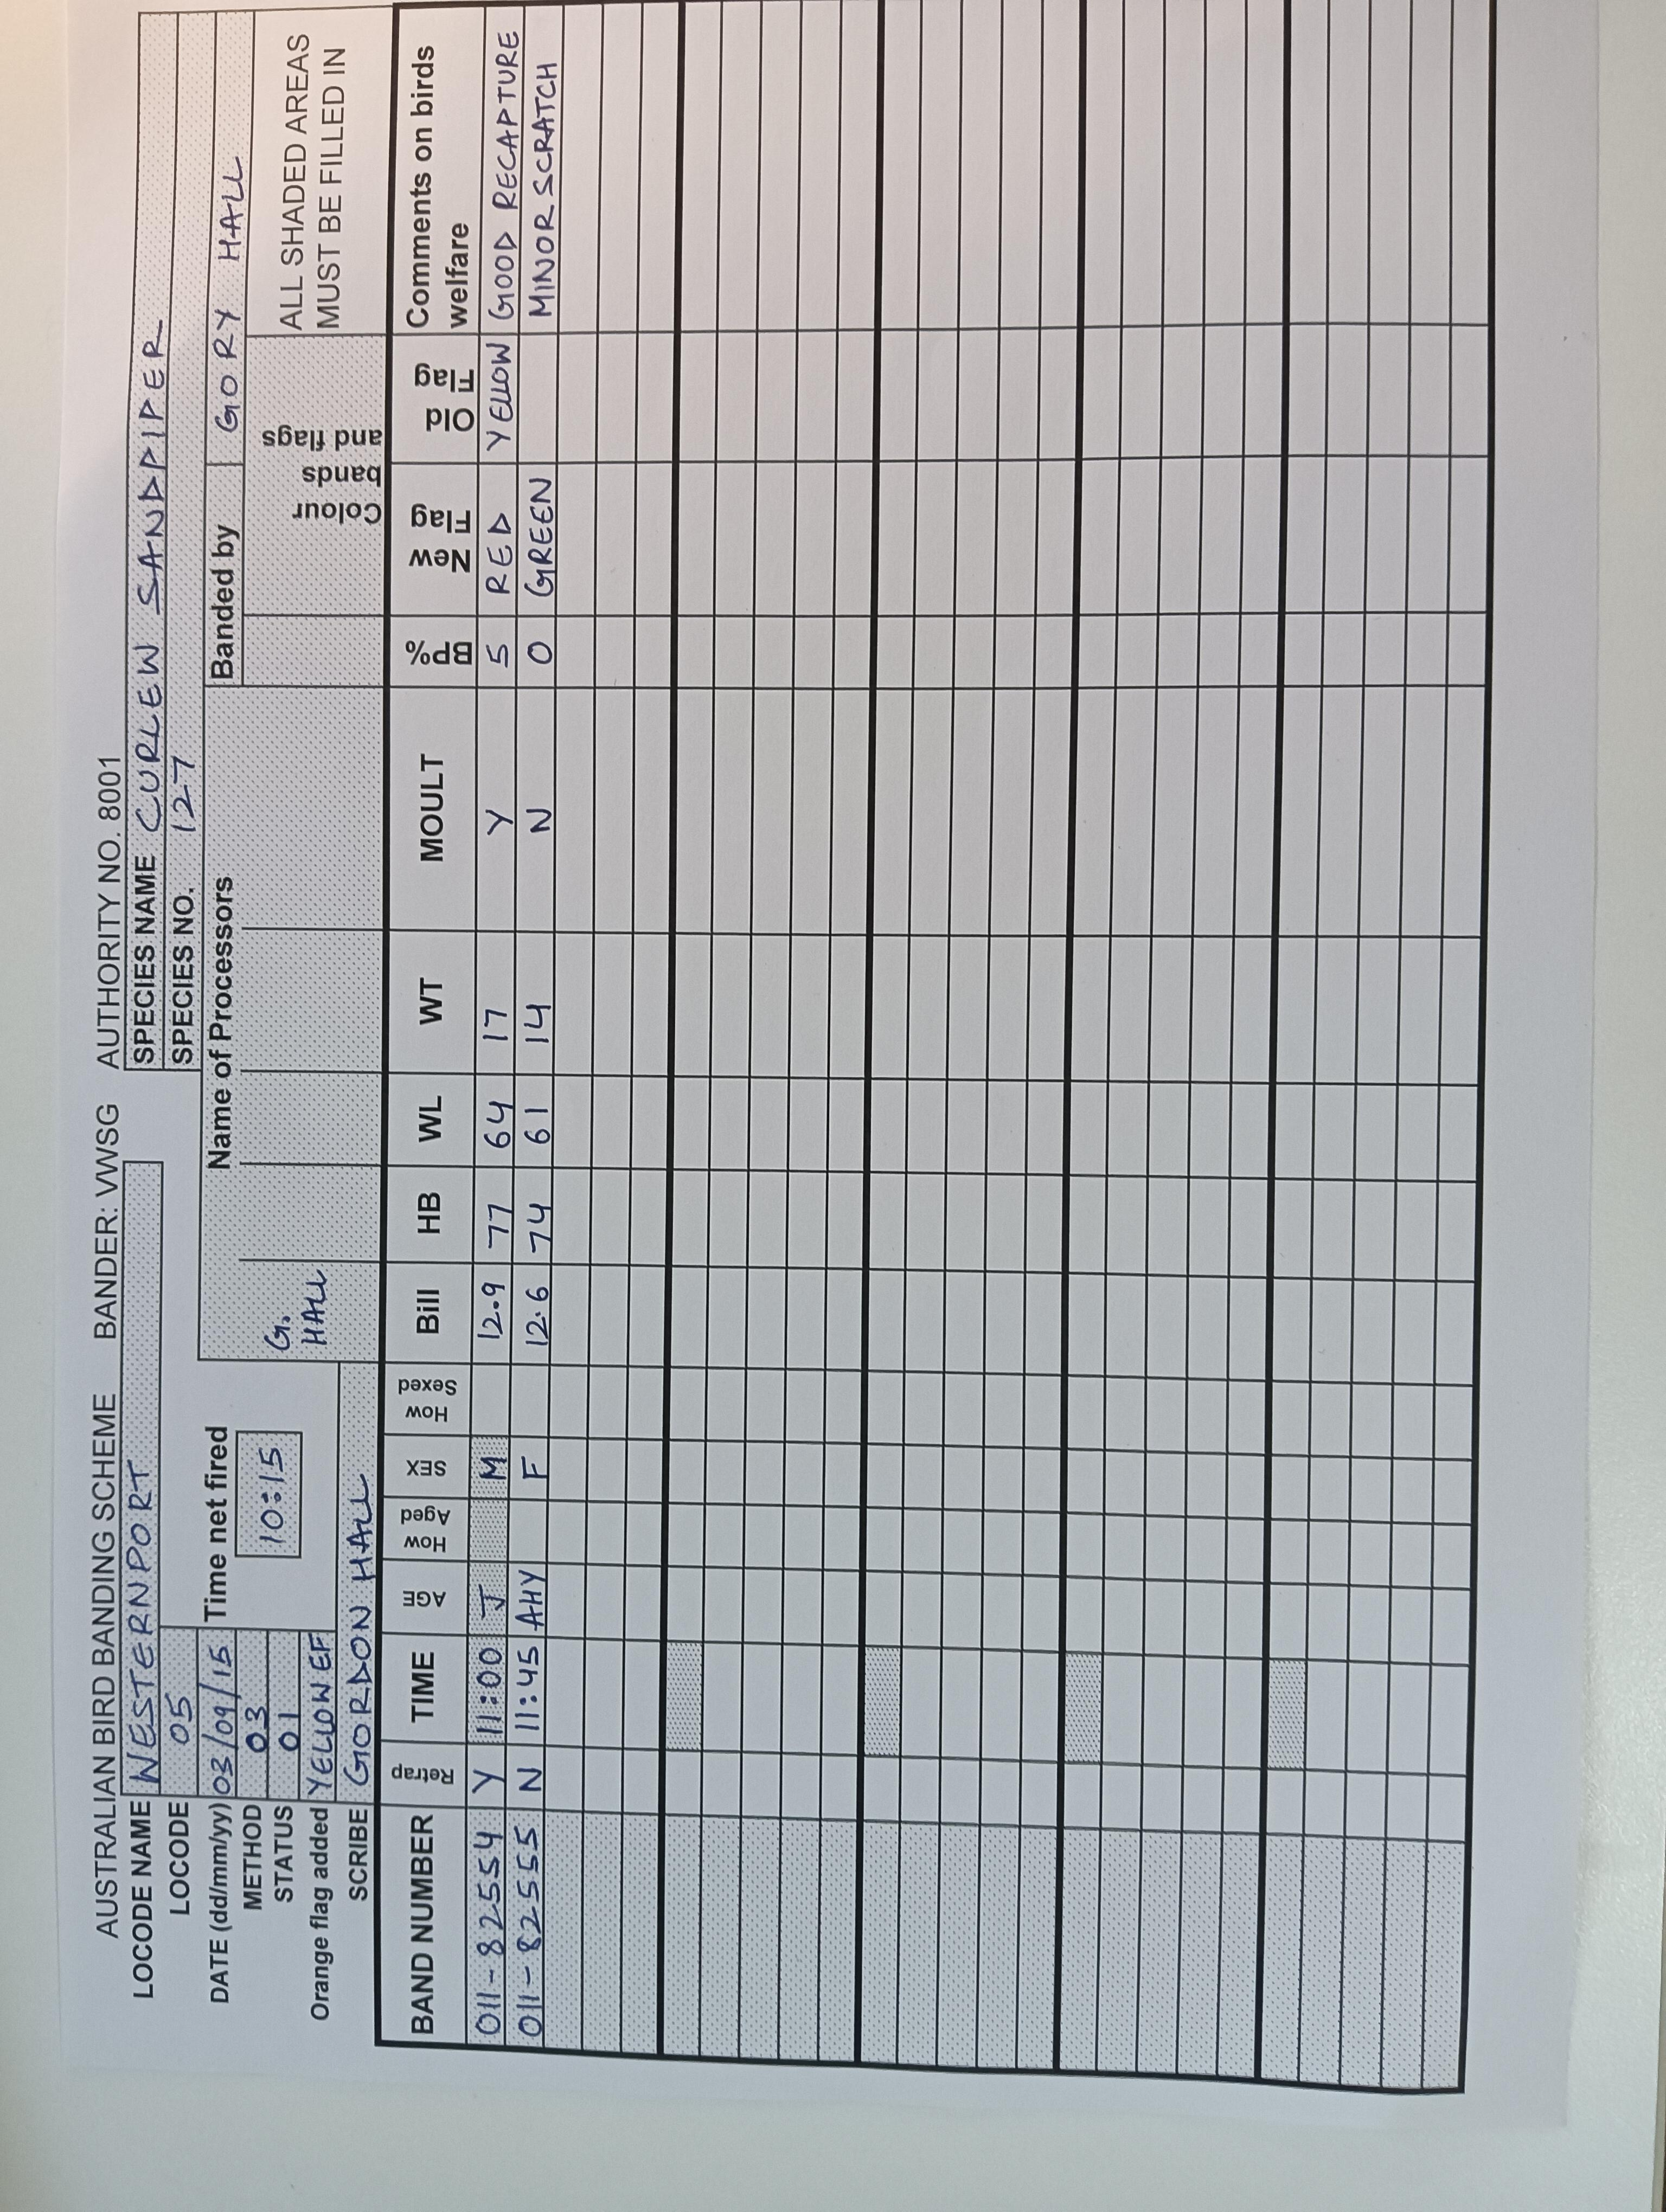BANDED_BY: (207, 10, 252, 687)
DATA: (464, 0, 527, 2048)
DATE: (199, 1626, 240, 2016)
LOCOCODE: (163, 1626, 199, 1929)
LOCOCODE_NAME: (119, 1159, 161, 2013)
METHOD: (240, 1630, 271, 1929)
NAME_OF_PROCESSORS: (247, 1263, 385, 1360)
ORANGE_FLAG_ADDED: (301, 1628, 340, 2037)
SCRIBE: (340, 1362, 383, 1929)
SPECIES_NAME: (128, 12, 179, 1072)
SPECIES_NO: (172, 12, 214, 1070)
STATUS: (271, 1628, 299, 1932)
